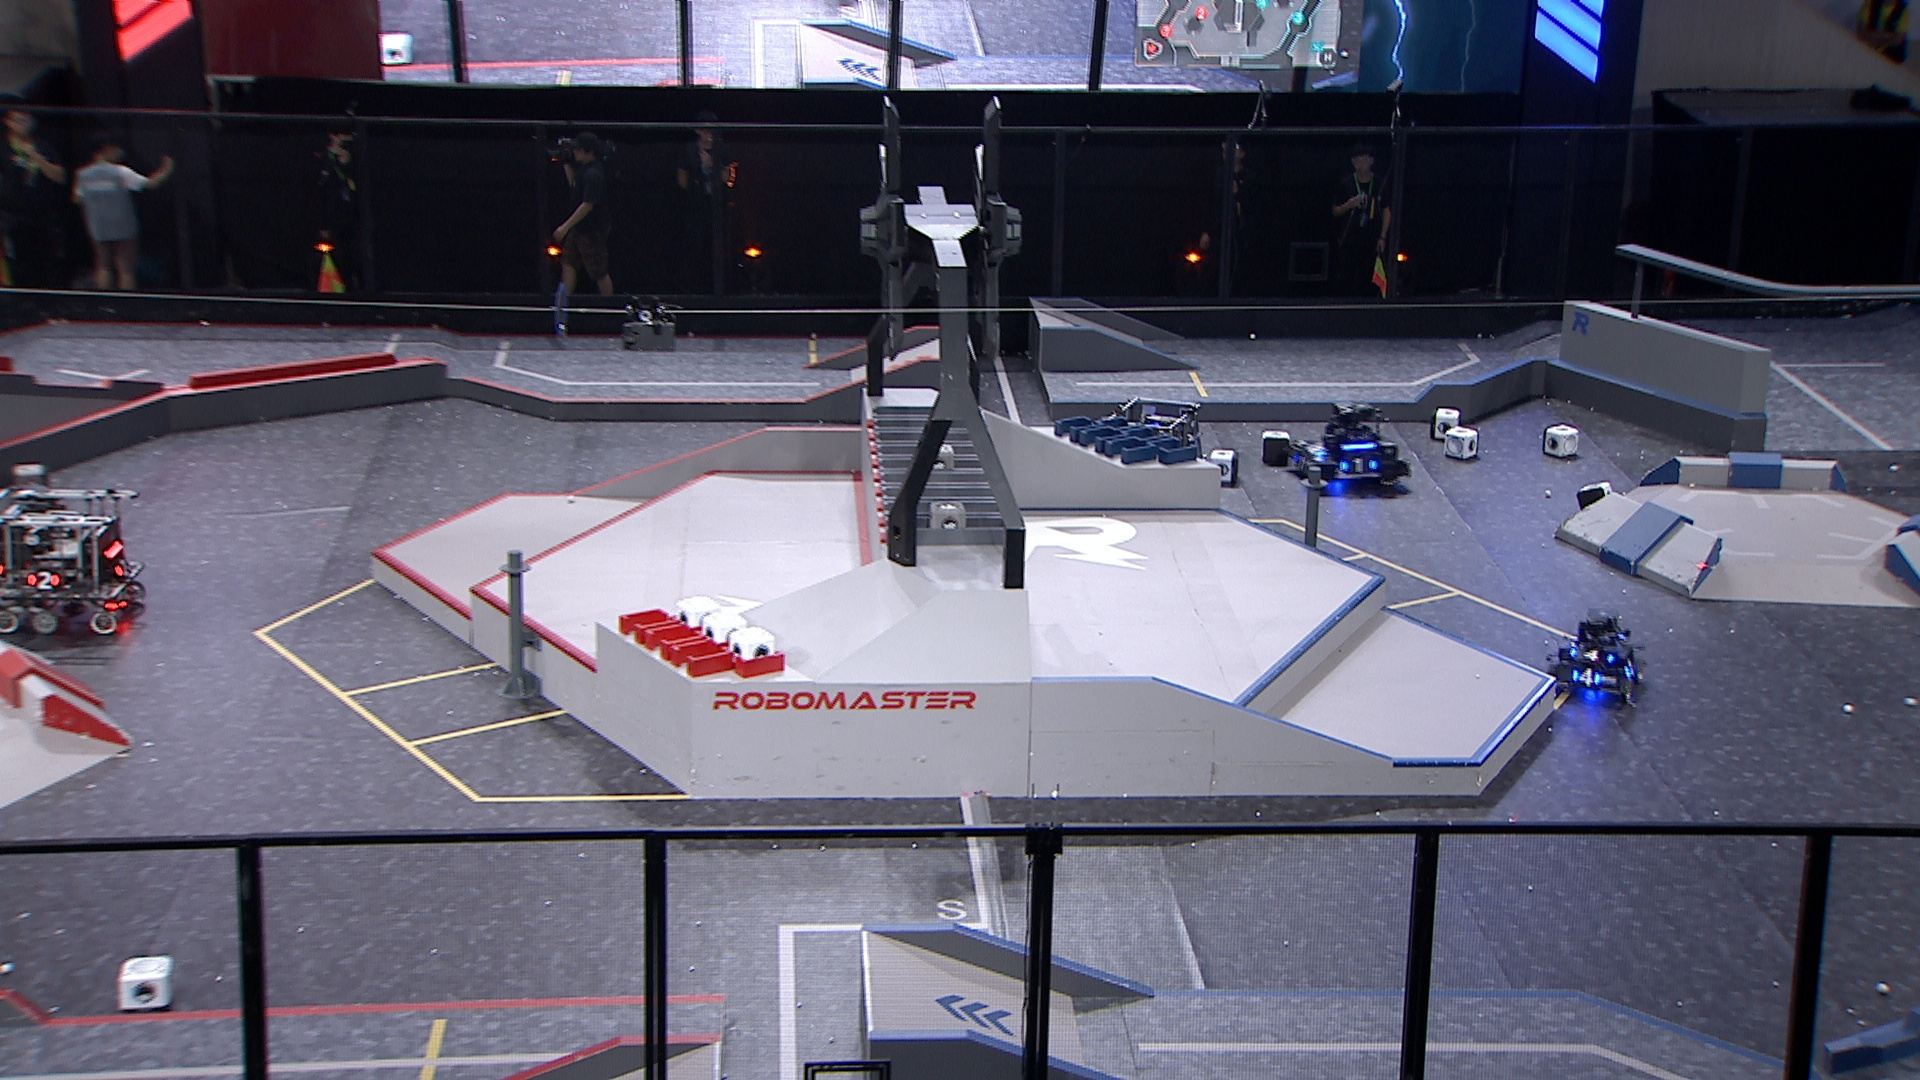armor: (1571, 644, 1614, 665), (26, 570, 61, 589), (1571, 669, 1605, 688), (1340, 458, 1377, 475), (1305, 440, 1335, 462), (1290, 448, 1315, 471), (113, 555, 131, 575), (1625, 655, 1636, 678)
car: (1096, 396, 1221, 520), (1280, 400, 1415, 495), (1547, 611, 1644, 700)
